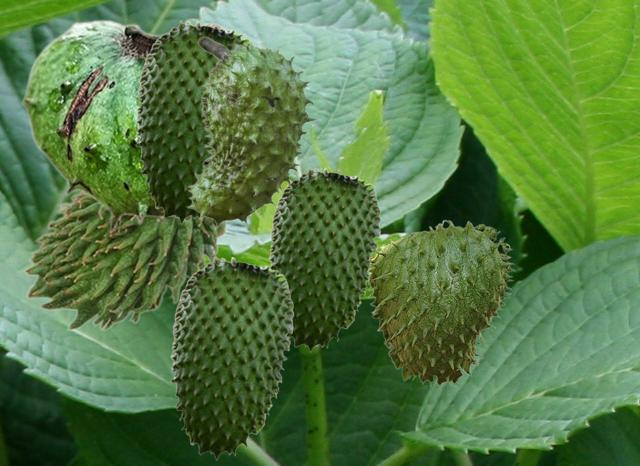guyabano: (21, 19, 231, 231), (22, 192, 230, 330), (185, 36, 318, 229), (367, 219, 515, 389), (170, 256, 293, 459), (135, 20, 249, 223), (268, 167, 380, 351)
